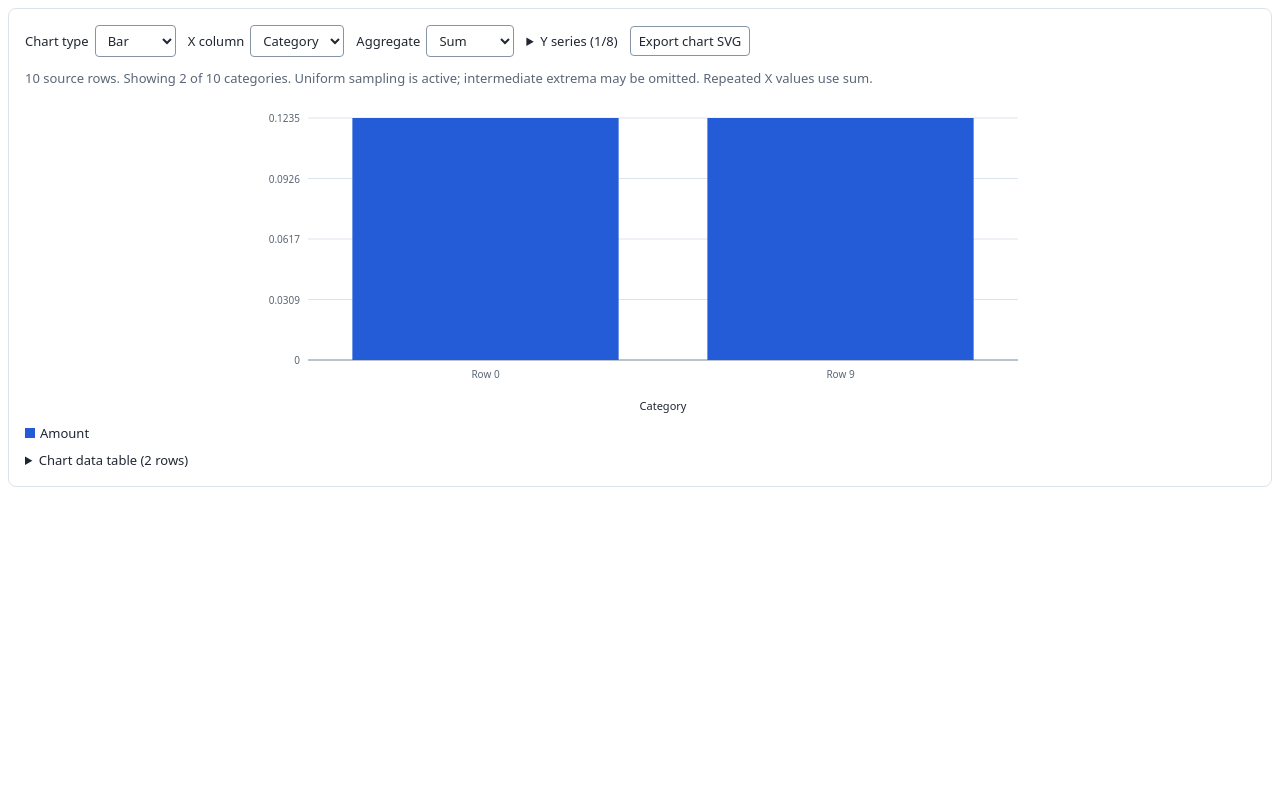
Scenario: React GridChart › shows sampling warnings and full numeric precision in the data table
The image size is (1280, 800).
Expected: the text "Uniform sampling is active" is shown, x1=291 y1=69 x2=700 y2=87
Click the heading "Chart data table (2 rows)".
click(114, 460)  # box x1=39 y1=451 x2=188 y2=469
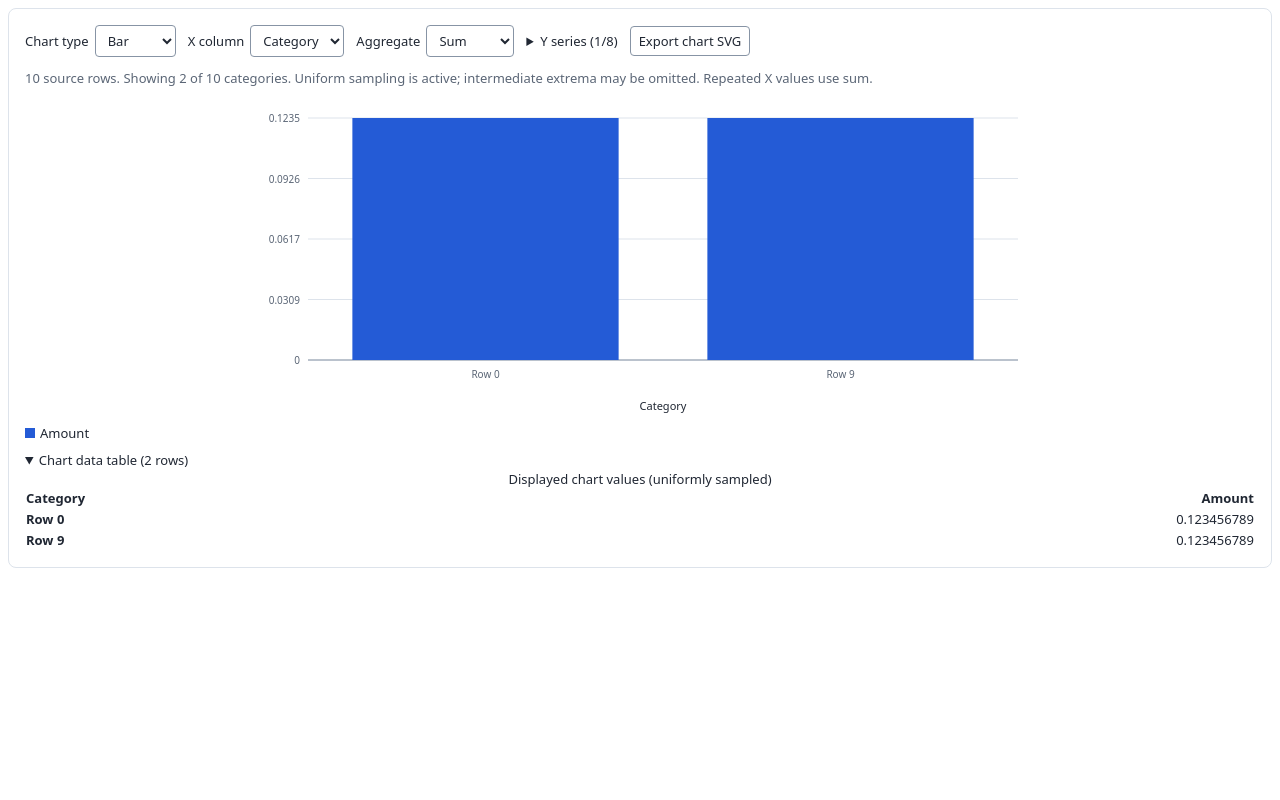
Now the table shows "0.123456789", box x1=1176 y1=510 x2=1254 y2=528
